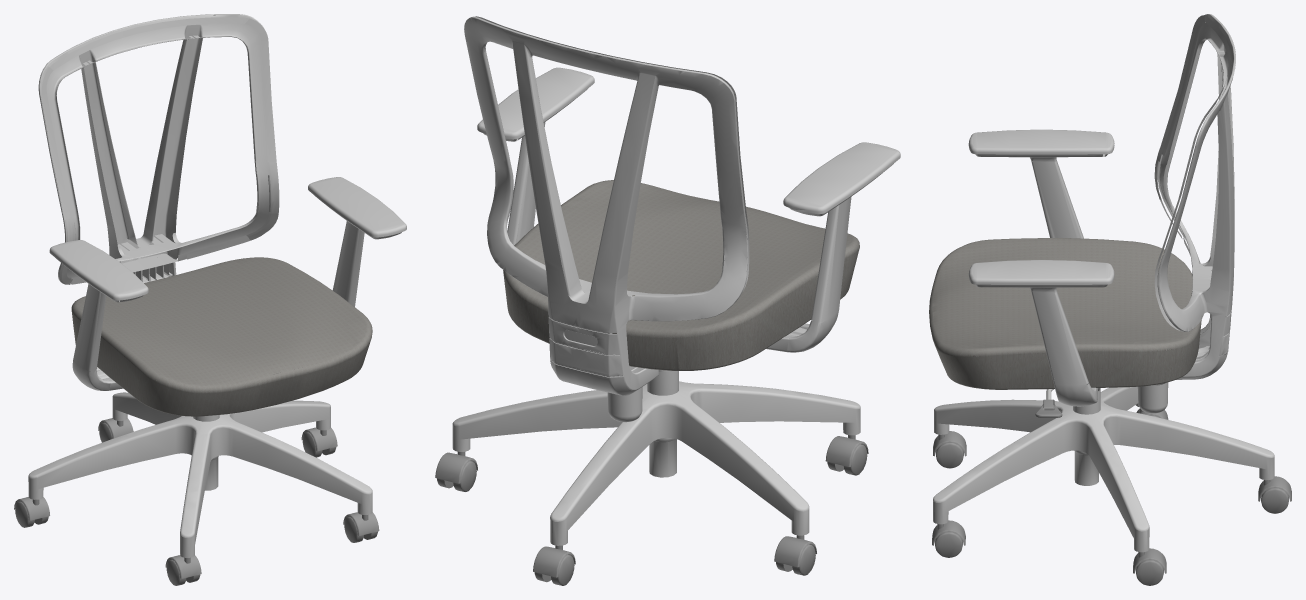
The picture shows the model from 3 angles, left to right: view 1: azimuth 30°, elevation 25°; view 2: azimuth 150°, elevation 25°; view 3: azimuth 270°, elevation 25°; orthographic projection. The views are drawn at different scales.
Visible parts, largest first — view 1: 74e76d8b-1ceb-4fba-ac2e-bbdc7d8effed, 9d05db1d-7ad7-4568-8aa9-4a83b2f4d4f7, 50202afc-4790-43e3-852c-53f606165b98, a00cad56-3902-4a69-8ea0-5f9b760e0629, 22d360c0-5816-43a2-81d5-fbaeedcbb9a8, 36190644-4960-4bd4-a990-930a19da09f4, d6daf968-7bd0-433e-917f-956081194419, 3bb6d3d8-687d-4a67-8195-cb56f13ee127, ce2ba651-548b-44aa-a896-506c4564e410, 28c2e0e9-e9e5-470a-811e-58f973637a9f; view 2: 9d05db1d-7ad7-4568-8aa9-4a83b2f4d4f7, 74e76d8b-1ceb-4fba-ac2e-bbdc7d8effed, 50202afc-4790-43e3-852c-53f606165b98, a00cad56-3902-4a69-8ea0-5f9b760e0629, 28c2e0e9-e9e5-470a-811e-58f973637a9f, ce2ba651-548b-44aa-a896-506c4564e410, 22d360c0-5816-43a2-81d5-fbaeedcbb9a8, d6daf968-7bd0-433e-917f-956081194419, 3bb6d3d8-687d-4a67-8195-cb56f13ee127, b9a18a6a-4d24-4c1a-8a01-d68652b35f17; view 3: 74e76d8b-1ceb-4fba-ac2e-bbdc7d8effed, 50202afc-4790-43e3-852c-53f606165b98, 9d05db1d-7ad7-4568-8aa9-4a83b2f4d4f7, a00cad56-3902-4a69-8ea0-5f9b760e0629, 28c2e0e9-e9e5-470a-811e-58f973637a9f, ce2ba651-548b-44aa-a896-506c4564e410, 36190644-4960-4bd4-a990-930a19da09f4, 3bb6d3d8-687d-4a67-8195-cb56f13ee127, 22d360c0-5816-43a2-81d5-fbaeedcbb9a8, b9a18a6a-4d24-4c1a-8a01-d68652b35f17.
Boxes of the visible parts, bbox=[...] form: 74e76d8b-1ceb-4fba-ac2e-bbdc7d8effed: bbox=[71, 257, 372, 416]; 9d05db1d-7ad7-4568-8aa9-4a83b2f4d4f7: bbox=[38, 14, 279, 284]; 50202afc-4790-43e3-852c-53f606165b98: bbox=[28, 392, 372, 557]; a00cad56-3902-4a69-8ea0-5f9b760e0629: bbox=[49, 177, 406, 390]; 22d360c0-5816-43a2-81d5-fbaeedcbb9a8: bbox=[165, 555, 201, 585]; 36190644-4960-4bd4-a990-930a19da09f4: bbox=[343, 512, 379, 542]; d6daf968-7bd0-433e-917f-956081194419: bbox=[14, 497, 49, 527]; 3bb6d3d8-687d-4a67-8195-cb56f13ee127: bbox=[301, 427, 337, 457]; ce2ba651-548b-44aa-a896-506c4564e410: bbox=[98, 418, 133, 442]; 28c2e0e9-e9e5-470a-811e-58f973637a9f: bbox=[193, 415, 219, 490]; 9d05db1d-7ad7-4568-8aa9-4a83b2f4d4f7: bbox=[464, 16, 749, 395]; 74e76d8b-1ceb-4fba-ac2e-bbdc7d8effed: bbox=[503, 180, 859, 370]; 50202afc-4790-43e3-852c-53f606165b98: bbox=[452, 381, 860, 545]; a00cad56-3902-4a69-8ea0-5f9b760e0629: bbox=[477, 67, 900, 352]; 28c2e0e9-e9e5-470a-811e-58f973637a9f: bbox=[647, 370, 678, 477]; ce2ba651-548b-44aa-a896-506c4564e410: bbox=[533, 545, 575, 585]; 22d360c0-5816-43a2-81d5-fbaeedcbb9a8: bbox=[825, 435, 868, 475]; d6daf968-7bd0-433e-917f-956081194419: bbox=[774, 535, 816, 575]; 3bb6d3d8-687d-4a67-8195-cb56f13ee127: bbox=[435, 451, 477, 491]; b9a18a6a-4d24-4c1a-8a01-d68652b35f17: bbox=[607, 387, 642, 422]; 74e76d8b-1ceb-4fba-ac2e-bbdc7d8effed: bbox=[929, 238, 1201, 389]; 50202afc-4790-43e3-852c-53f606165b98: bbox=[933, 386, 1274, 552]; 9d05db1d-7ad7-4568-8aa9-4a83b2f4d4f7: bbox=[1154, 14, 1235, 379]; a00cad56-3902-4a69-8ea0-5f9b760e0629: bbox=[968, 129, 1114, 406]; 28c2e0e9-e9e5-470a-811e-58f973637a9f: bbox=[1073, 388, 1100, 485]; ce2ba651-548b-44aa-a896-506c4564e410: bbox=[1258, 476, 1291, 513]; 36190644-4960-4bd4-a990-930a19da09f4: bbox=[932, 520, 965, 557]; 3bb6d3d8-687d-4a67-8195-cb56f13ee127: bbox=[1133, 548, 1166, 585]; 22d360c0-5816-43a2-81d5-fbaeedcbb9a8: bbox=[933, 431, 966, 468]; b9a18a6a-4d24-4c1a-8a01-d68652b35f17: bbox=[1137, 382, 1168, 413].
Bounding box in the file's own units: 0.6617 × 0.8894 × 0.6493.
Materials: 4 (2 with a texture image).
